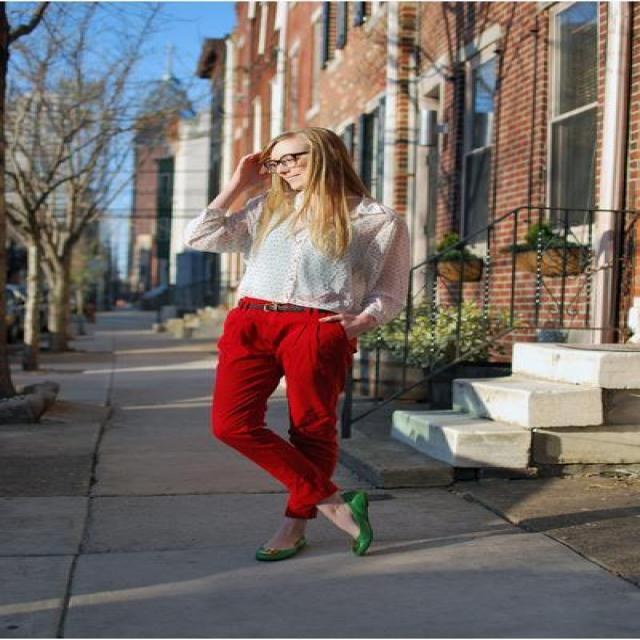pants: (211, 296, 357, 518)
shirt: (184, 192, 422, 325), (250, 301, 312, 311)
shoe: (349, 499, 389, 556)
